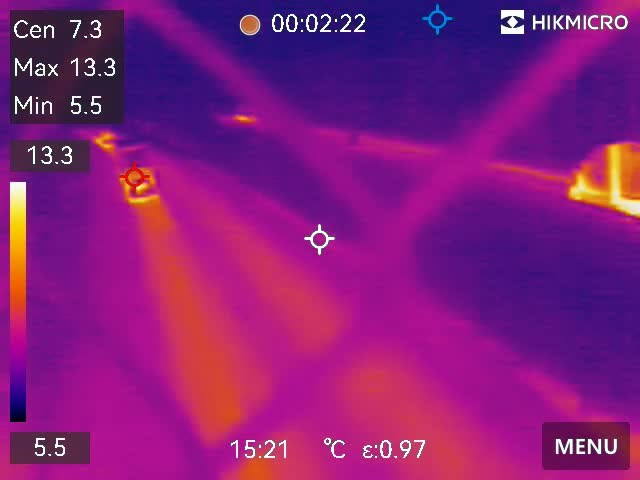heavyTruck: (562, 130, 640, 219), (107, 135, 159, 210)
